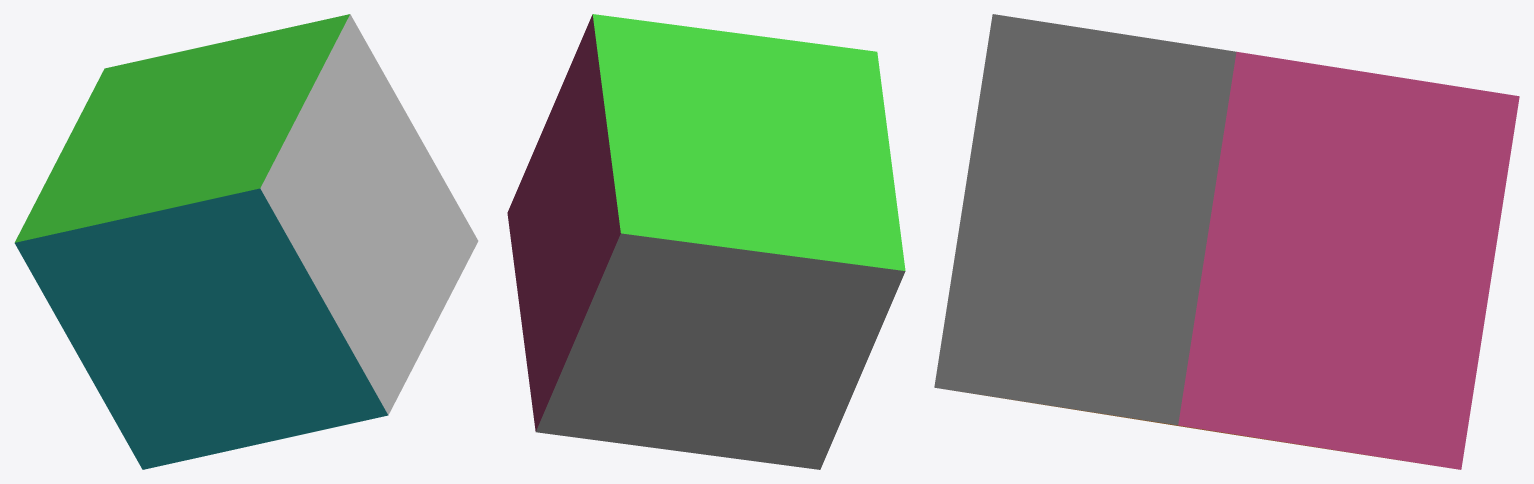
The model's file is BFC Playground Blender Cube.fbx.
3 views of the same model, side by side, from view 1: azimuth 30°, elevation 25°; view 2: azimuth 150°, elevation 25°; view 3: azimuth 270°, elevation 25° (orthographic). The views are drawn at different scales.
Visible parts, largest first — view 1: Cube; view 2: Cube; view 3: Cube.
Part boxes in pixels (x1,y1,x2,y2): Cube: [14, 14, 478, 469]; Cube: [507, 14, 905, 469]; Cube: [934, 14, 1519, 469].
Size of the model in its own units: 338 by 301 by 310.
